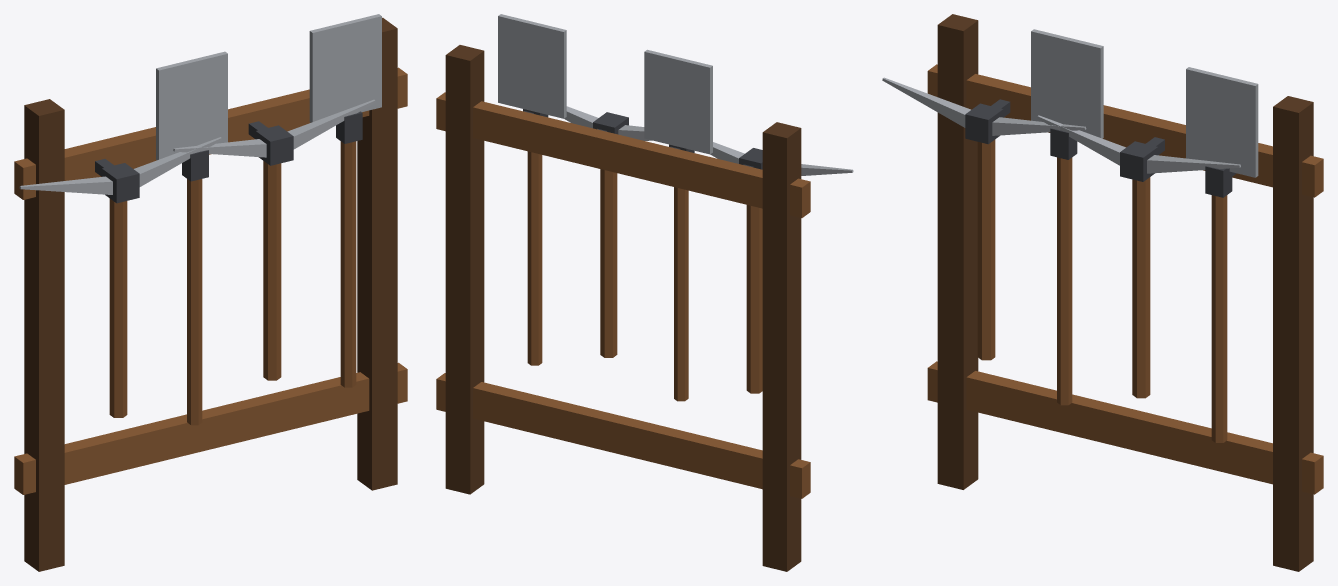
Rendered from mine_tool_rack.glb.
3 renders of one model, left to right at view 1: azimuth 30°, elevation 25°; view 2: azimuth 150°, elevation 25°; view 3: azimuth 330°, elevation 25°, orthographic. The views are drawn at different scales.
Parts seen in each view (by area): view 1: mine_tool_rack; view 2: mine_tool_rack; view 3: mine_tool_rack.
Part boxes in pixels (left/top/right/bottom): mine_tool_rack: left=14, top=14, right=407, bottom=571; mine_tool_rack: left=436, top=14, right=853, bottom=571; mine_tool_rack: left=882, top=14, right=1323, bottom=571.
Bounding box in the file's own units: 1.59 × 1.81 × 0.27.
